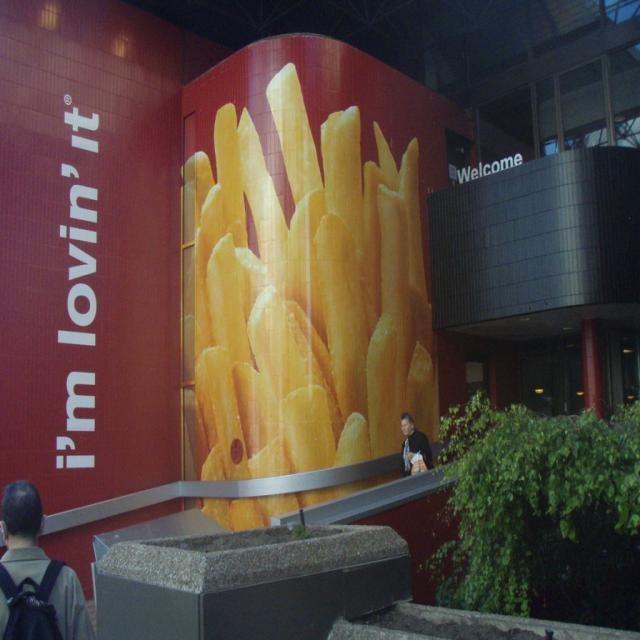French fries: (179, 63, 437, 531)
